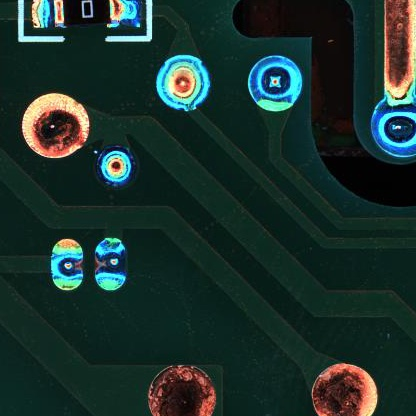spot: (247, 55, 304, 114), (156, 53, 211, 111), (371, 94, 416, 158), (49, 238, 83, 293), (95, 238, 128, 291), (98, 146, 135, 191)
